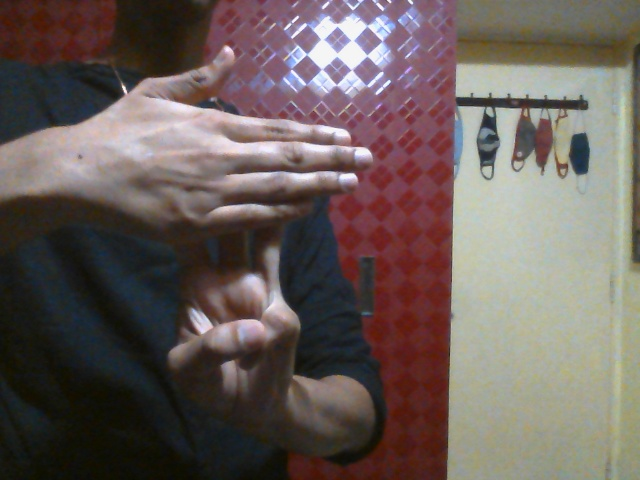M: (98, 44, 376, 415)
